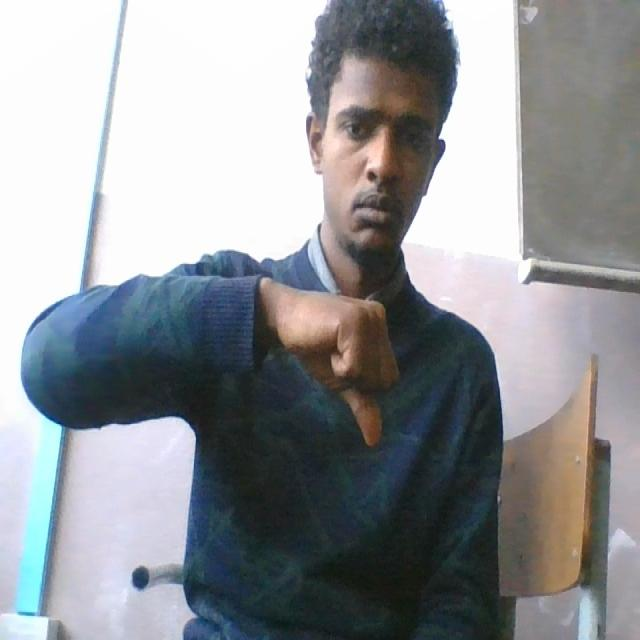injera: (254, 274, 407, 459)
